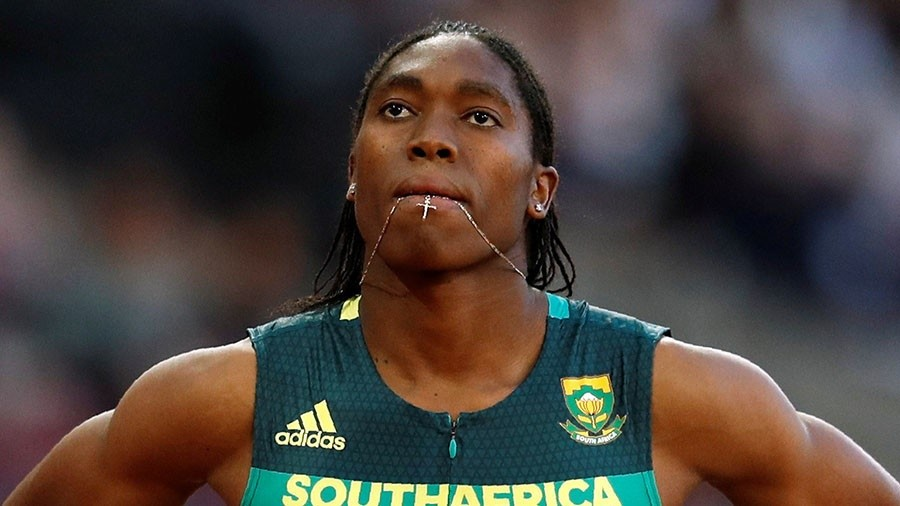face_no_mask: (346, 21, 560, 276)
